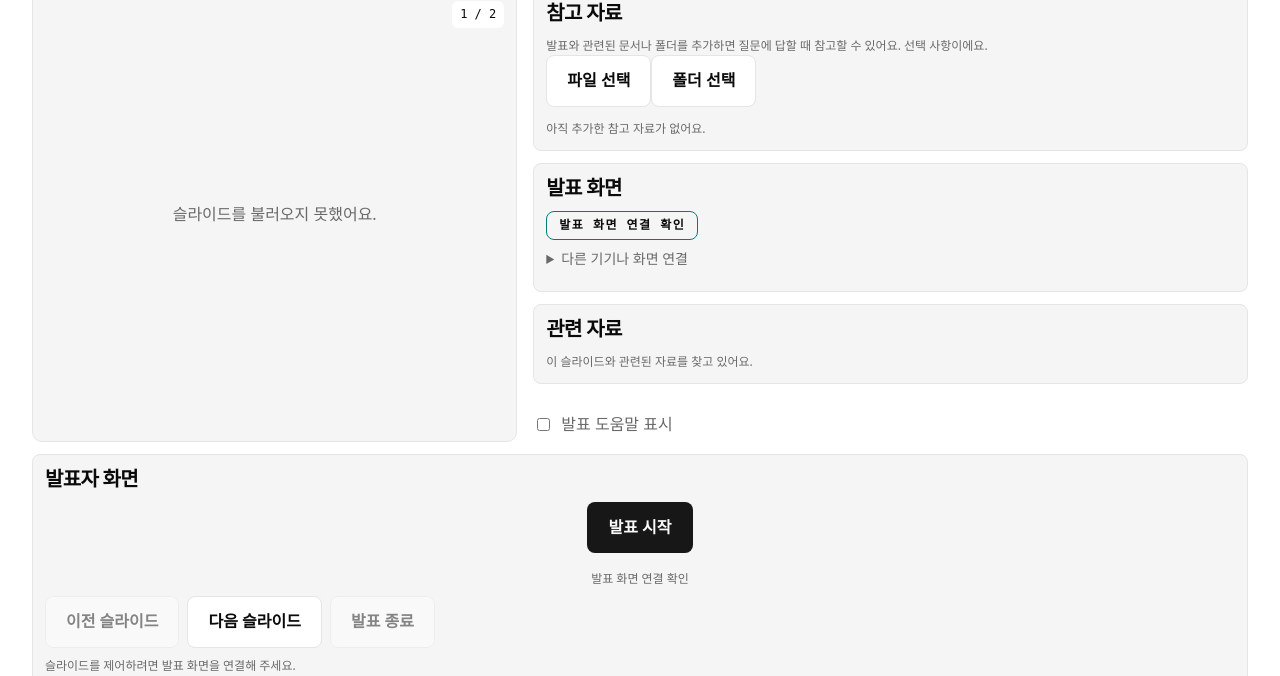
Test: Console route boundary › adds evidence as each slide finishes without blocking presentation readiness
(page scrolled)
Expected: the element showing "이 슬라이드와 관련된 자료를 찾고 있어요." is shown, [546,353,753,370]
Click the button "발표 시작" at (640, 527), box [588,502,692,553]
(page scrolled)
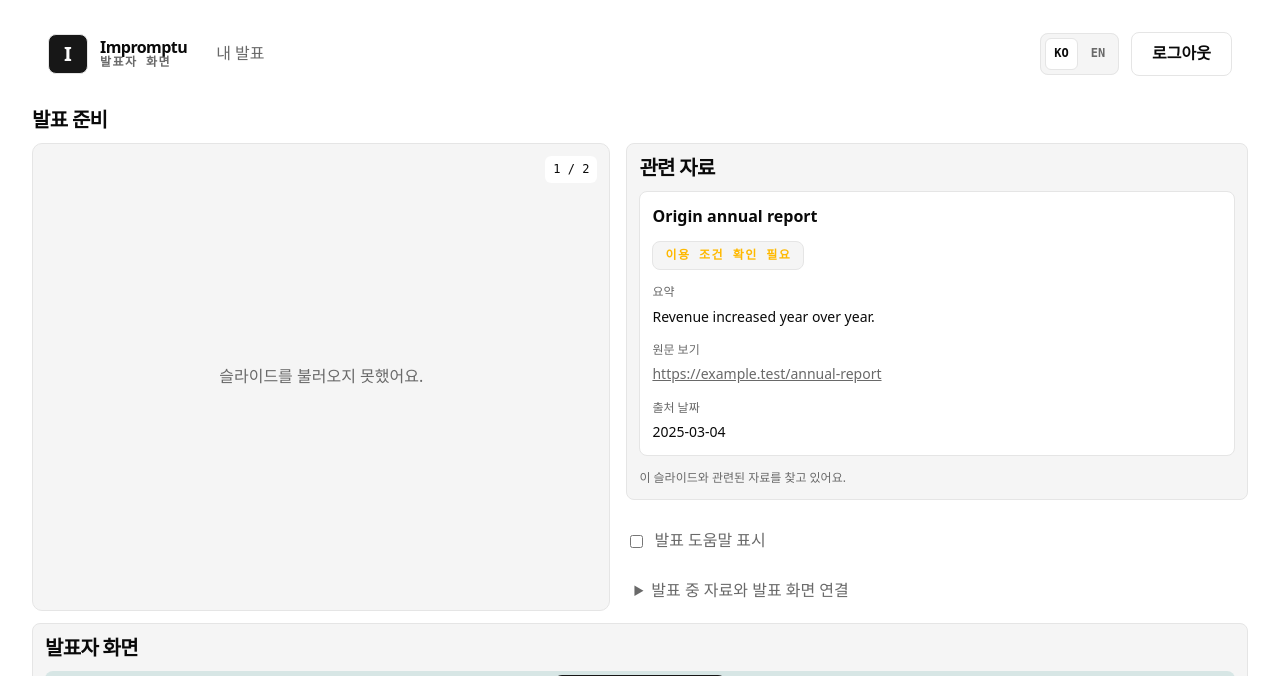
Result: the element that starts with "Origin annual report" is shown at [652,205,818,227]
Result: the element that starts with "Origin annual report" shows "Revenue increased year over year." at [652,307,875,326]
Result: the element that starts with "Origin annual report" shows "https://example.test/annual-report" at [652,364,882,383]
